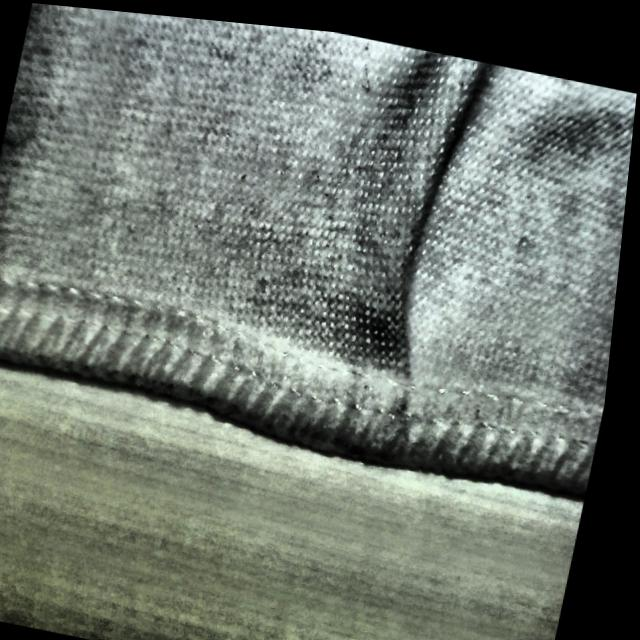seam: (297, 92, 524, 469)
